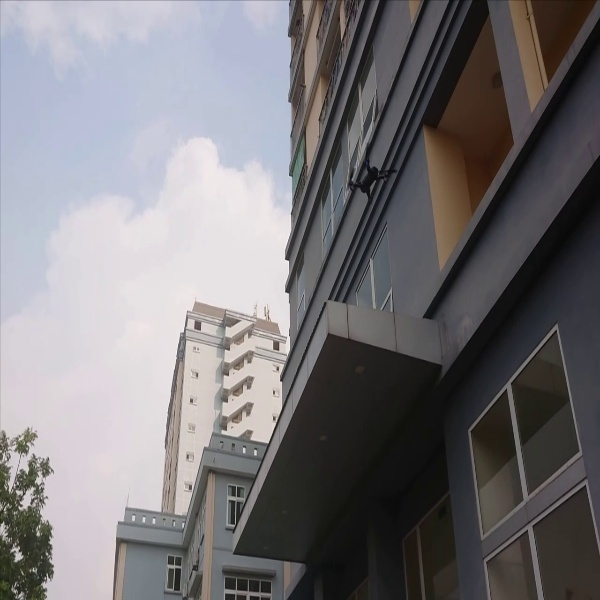drone: (345, 140, 396, 207)
